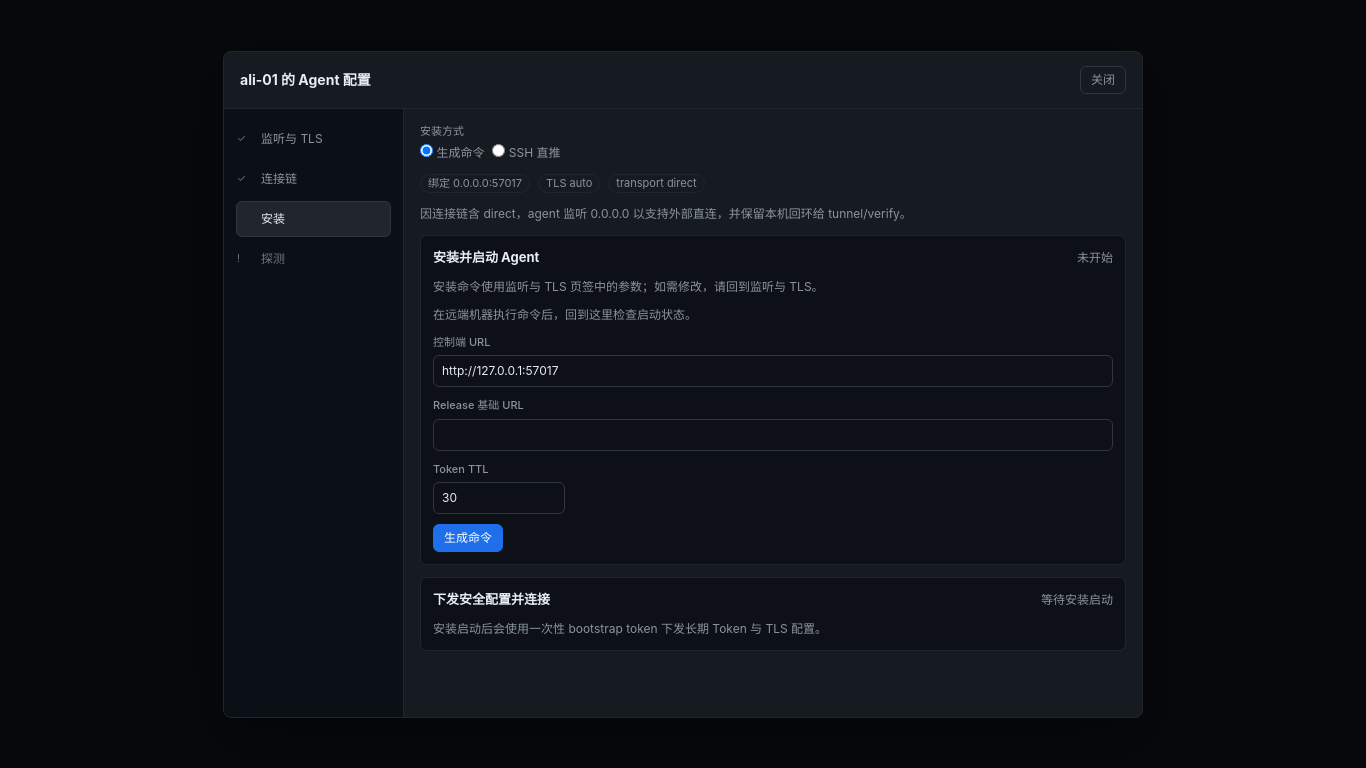
it: AgentConfigPanel › runs SSH push as install/start then provision/connect automatically
The width and height of the screenshot is (1366, 768).
Step 1. Click the radio button labelled "SSH 直推" → (499, 150), box top-left (492, 144), bottom-right (505, 157)
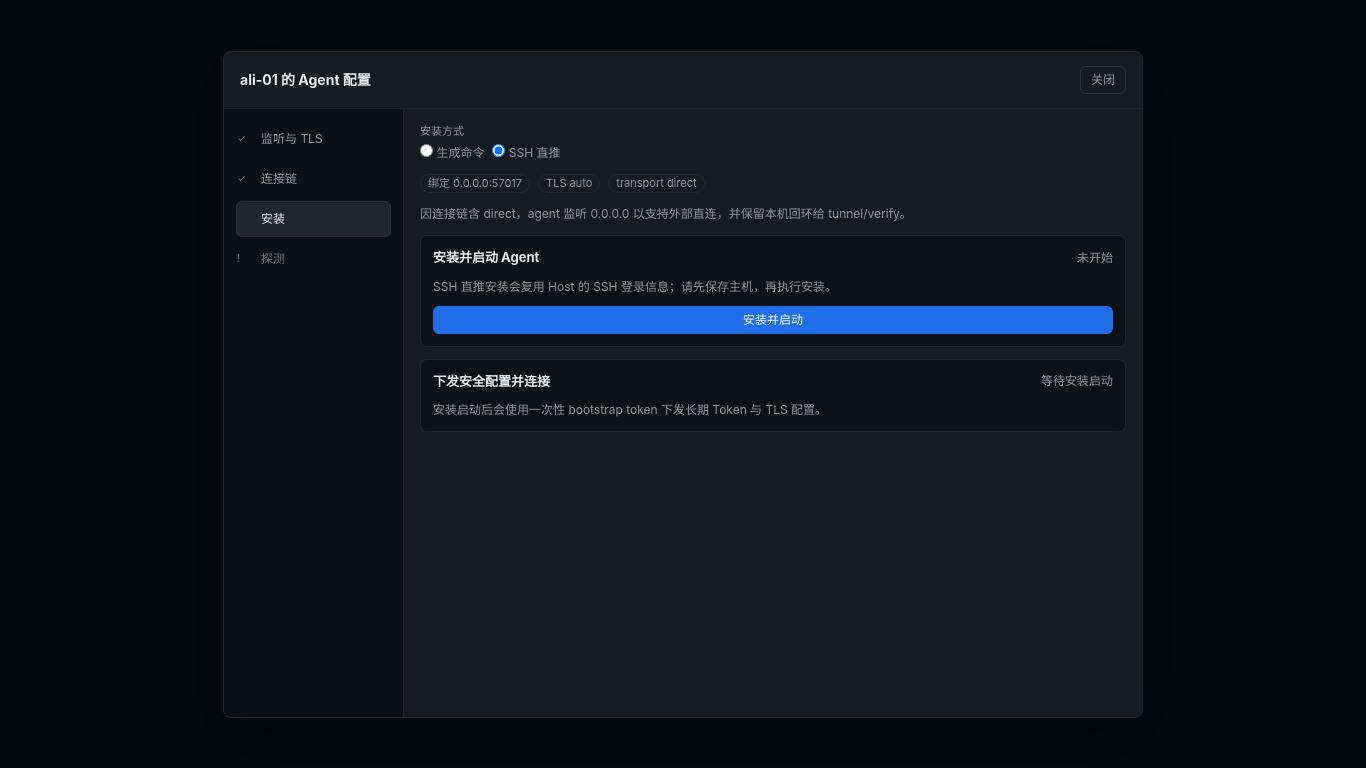
Check: the element with test id "install-phase-security" shows "下发安全配置并连接", box top-left (433, 373), bottom-right (550, 389)
Check: the button with test id "agent-install-push" is shown
Step 2. Click the button with test id "agent-install-push" → (773, 320), box top-left (433, 306), bottom-right (1113, 334)
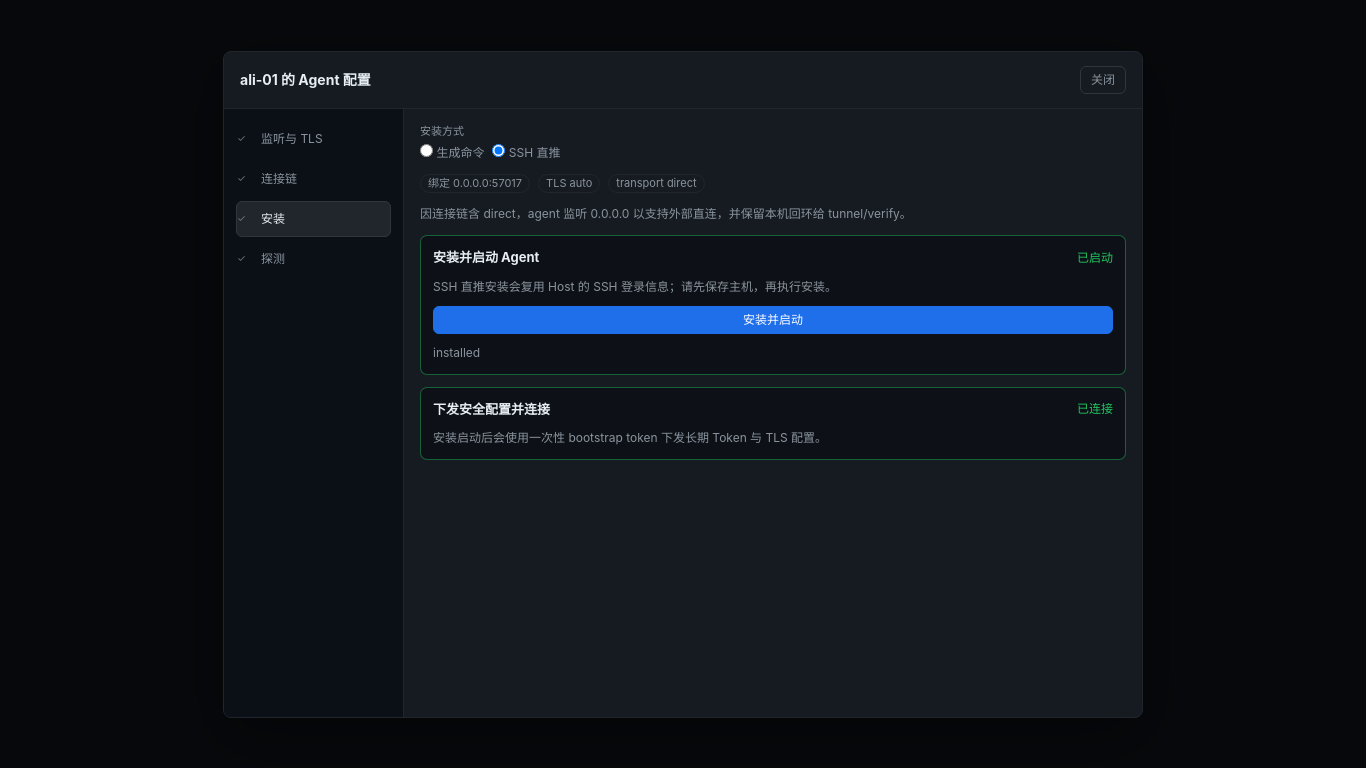
Check: the element with test id "install-phase-security" shows "已连接", box top-left (1077, 401), bottom-right (1113, 416)
